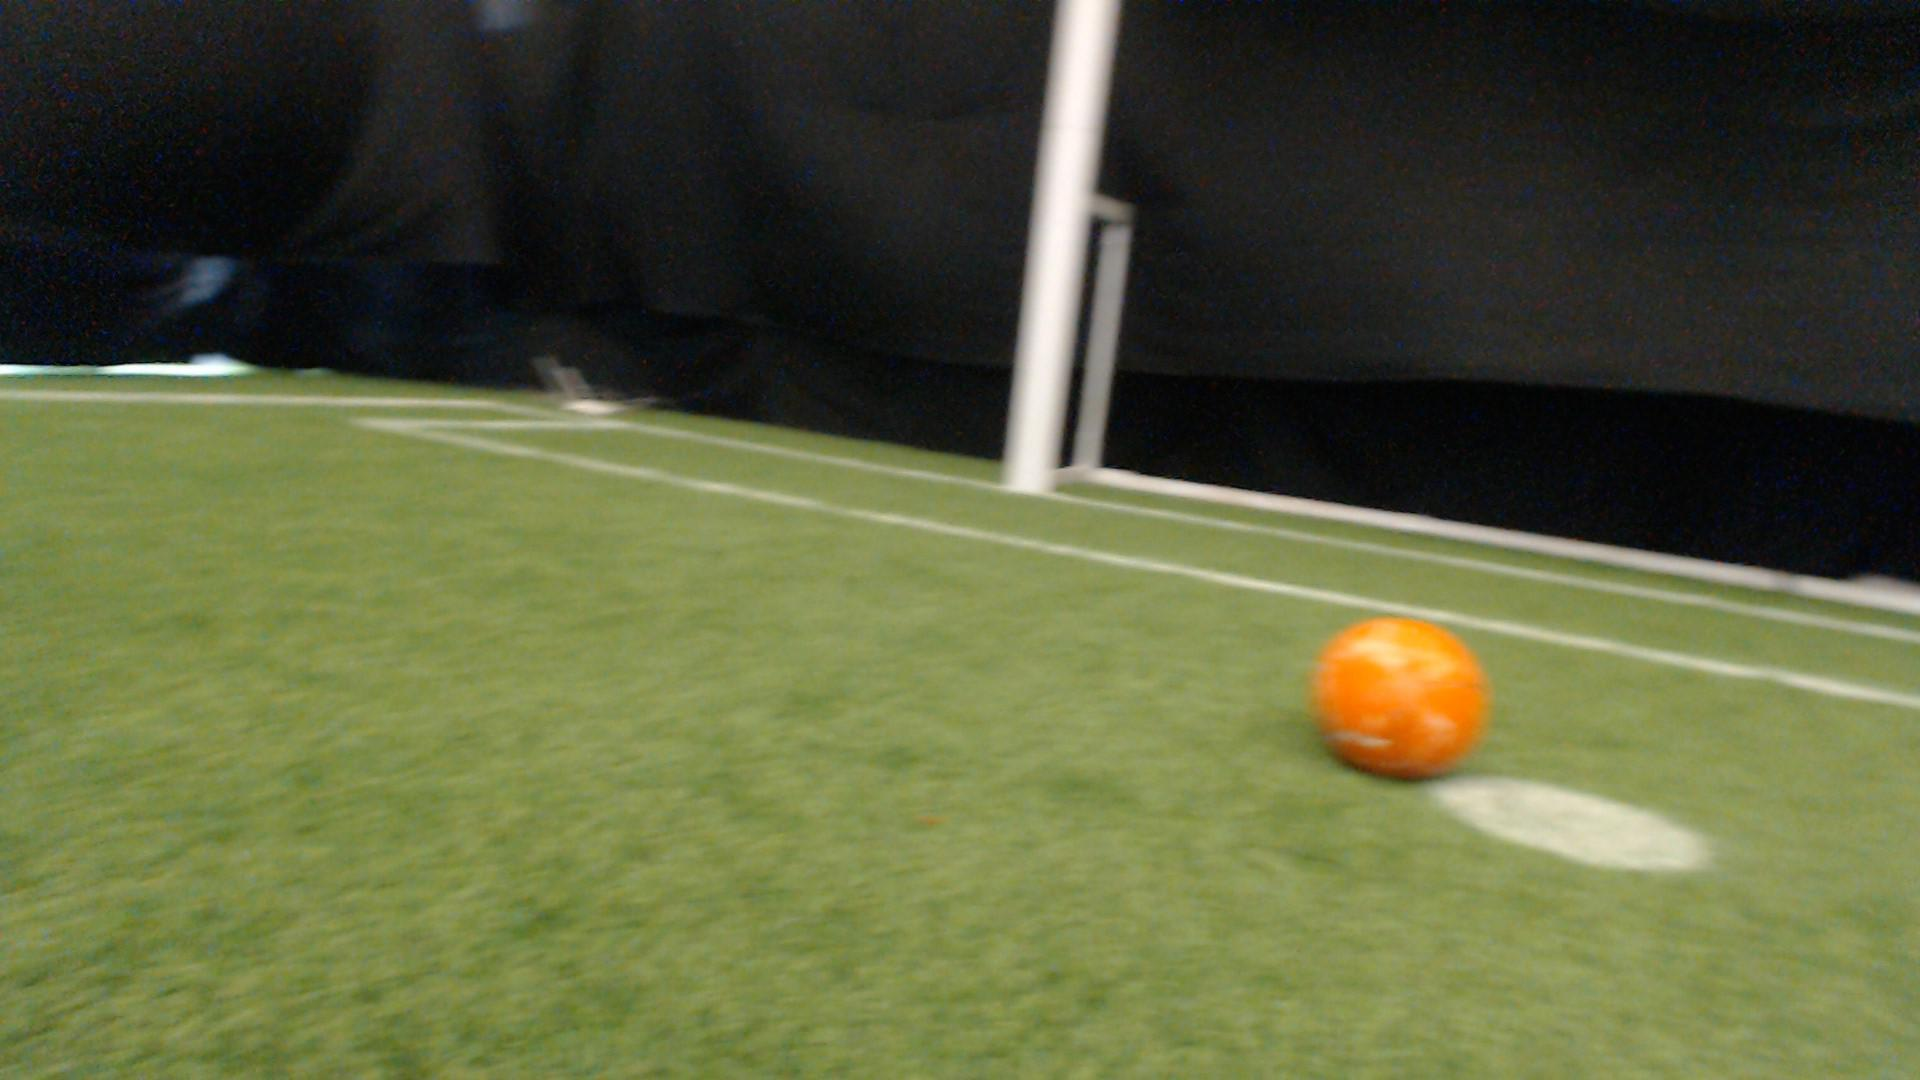bola: (1295, 585, 1494, 799)
